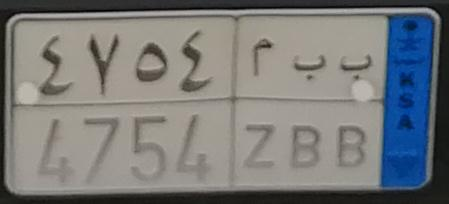4: (32, 34, 76, 187), (175, 27, 216, 184)
5: (128, 40, 169, 187)
7: (82, 32, 122, 186)
B: (335, 54, 374, 169), (289, 54, 325, 170)
Z: (244, 36, 276, 174)
